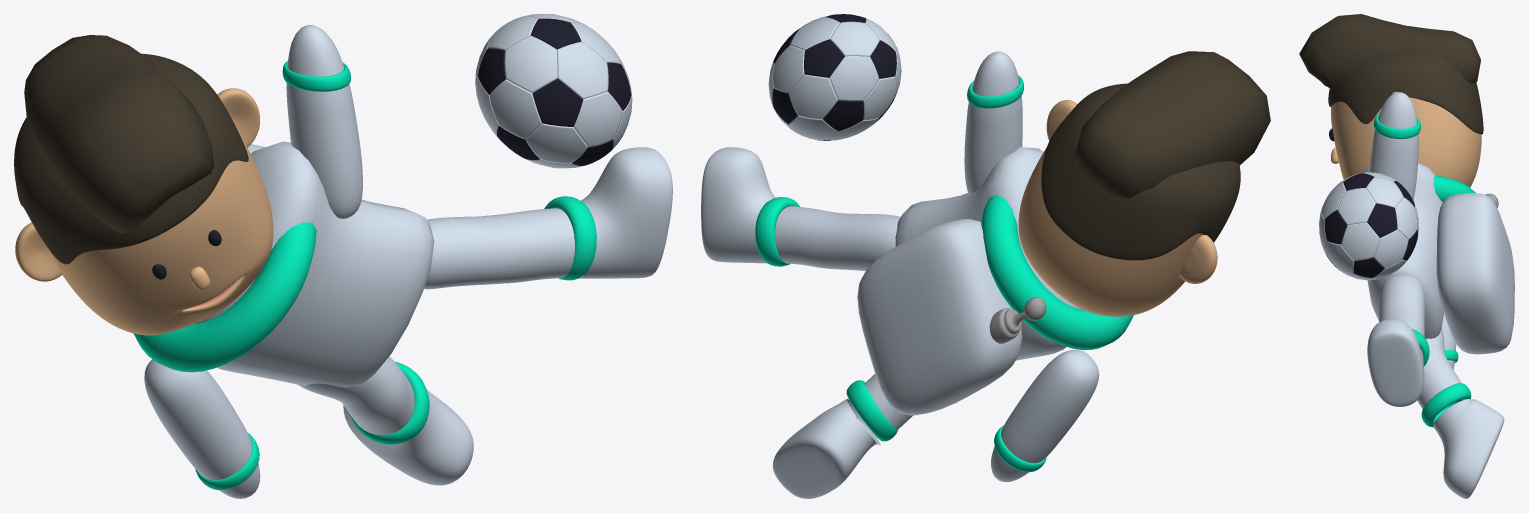
The model's file is riso-top.glb.
3 views of the same model, side by side, from view 1: azimuth 30°, elevation 25°; view 2: azimuth 150°, elevation 25°; view 3: azimuth 270°, elevation 25° (orthographic). The views are drawn at different scales.
Parts seen in each view (by area): view 1: Cube.113, Cube.100, Cube.111, hlava.003, FootballBall, vlasy.003, Torus.006, Cube.112, Cube.105, Cube.108, Cylinder.019, Cube.109 (+3 smaller); view 2: Cube.104, Cube.100, vlasy.003, FootballBall, Cube.111, hlava.003, Torus.006, Cube.112, Cube.108, Cube.113, Cube.105, Cylinder.019 (+5 smaller); view 3: Cube.104, FootballBall, Cube.100, vlasy.003, hlava.003, Cube.111, Cube.112, Cube.113, Cube.105, Cube.110, Torus.006, Cube.106 (+2 smaller).
Part boxes in pixels (x1,y1,x2,y2): Cube.113: (195, 141, 434, 387); Cube.100: (24, 35, 213, 233); Cube.111: (424, 147, 672, 289); hlava.003: (44, 129, 273, 335); FootballBall: (475, 14, 632, 168); vlasy.003: (14, 53, 248, 264); Torus.006: (133, 222, 316, 372); Cube.112: (297, 356, 473, 485); Cube.105: (286, 25, 362, 218); Cube.108: (144, 359, 260, 498); Cylinder.019: (15, 88, 259, 281); Cube.109: (544, 196, 596, 280); Cube.104: (857, 219, 1022, 415); Cube.100: (1074, 51, 1270, 198); vlasy.003: (1041, 83, 1240, 260); FootballBall: (768, 14, 901, 140); Cube.111: (701, 147, 900, 270); hlava.003: (1018, 147, 1202, 316); Torus.006: (981, 195, 1133, 350); Cube.112: (772, 374, 913, 498); Cube.108: (991, 350, 1099, 481); Cube.113: (895, 147, 1080, 360); Cube.105: (964, 51, 1022, 194); Cylinder.019: (1046, 100, 1217, 283); Cube.104: (1436, 193, 1514, 354); FootballBall: (1319, 172, 1418, 280); Cube.100: (1299, 14, 1480, 90); vlasy.003: (1328, 51, 1483, 134); hlava.003: (1331, 97, 1481, 187); Cube.111: (1367, 275, 1424, 406); Cube.112: (1417, 328, 1504, 498); Cube.113: (1361, 163, 1443, 338); Cube.105: (1369, 92, 1418, 199); Cube.110: (1421, 383, 1471, 427); Torus.006: (1433, 175, 1475, 201); Cube.106: (1373, 113, 1420, 138).
Bounding box in the file's own units: 2.28 × 1.96 × 1.07.
